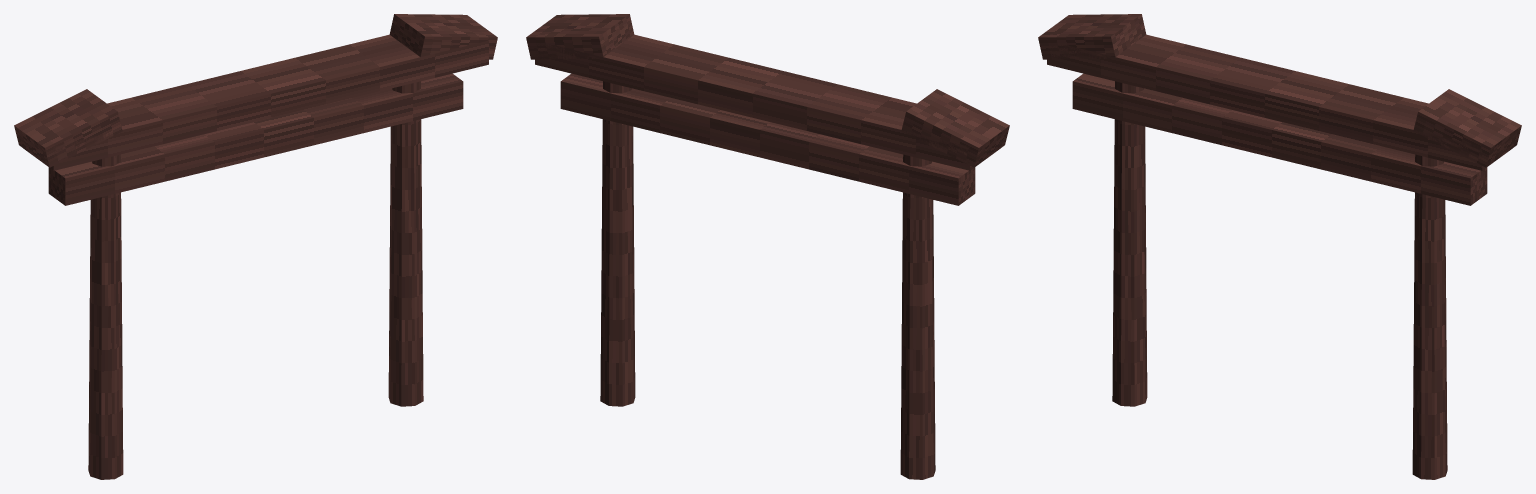
The model's file is gate_11.glb.
The picture shows the model from 3 angles, left to right: view 1: azimuth 30°, elevation 25°; view 2: azimuth 150°, elevation 25°; view 3: azimuth 330°, elevation 25°; orthographic projection.
Parts seen in each view (by area): view 1: Roof, Lintel, Pillar.001, Pillar, RaisedEave, RaisedEave.001; view 2: Roof, Lintel, Pillar.001, Pillar, RaisedEave, RaisedEave.001; view 3: Roof, Lintel, Pillar, Pillar.001, RaisedEave.001, RaisedEave.
Part boxes in pixels (left/top/right/bottom): Roof: left=23, top=34, right=488, bottom=170; Lintel: left=48, top=73, right=463, bottom=205; Pillar.001: left=388, top=81, right=423, bottom=406; Pillar: left=88, top=154, right=123, bottom=479; RaisedEave: left=14, top=89, right=122, bottom=167; RaisedEave.001: left=389, top=14, right=497, bottom=59; Roof: left=535, top=34, right=1000, bottom=170; Lintel: left=560, top=73, right=975, bottom=205; Pillar.001: left=600, top=81, right=635, bottom=406; Pillar: left=900, top=154, right=935, bottom=479; RaisedEave: left=901, top=89, right=1009, bottom=167; RaisedEave.001: left=526, top=14, right=634, bottom=59; Roof: left=1047, top=34, right=1512, bottom=170; Lintel: left=1072, top=73, right=1487, bottom=205; Pillar: left=1112, top=81, right=1147, bottom=406; Pillar.001: left=1412, top=154, right=1447, bottom=479; RaisedEave.001: left=1413, top=89, right=1521, bottom=167; RaisedEave: left=1038, top=14, right=1146, bottom=59.
Size of the model in its own units: 5.5 by 4.33 by 0.65.
1 material, 1 textured.
